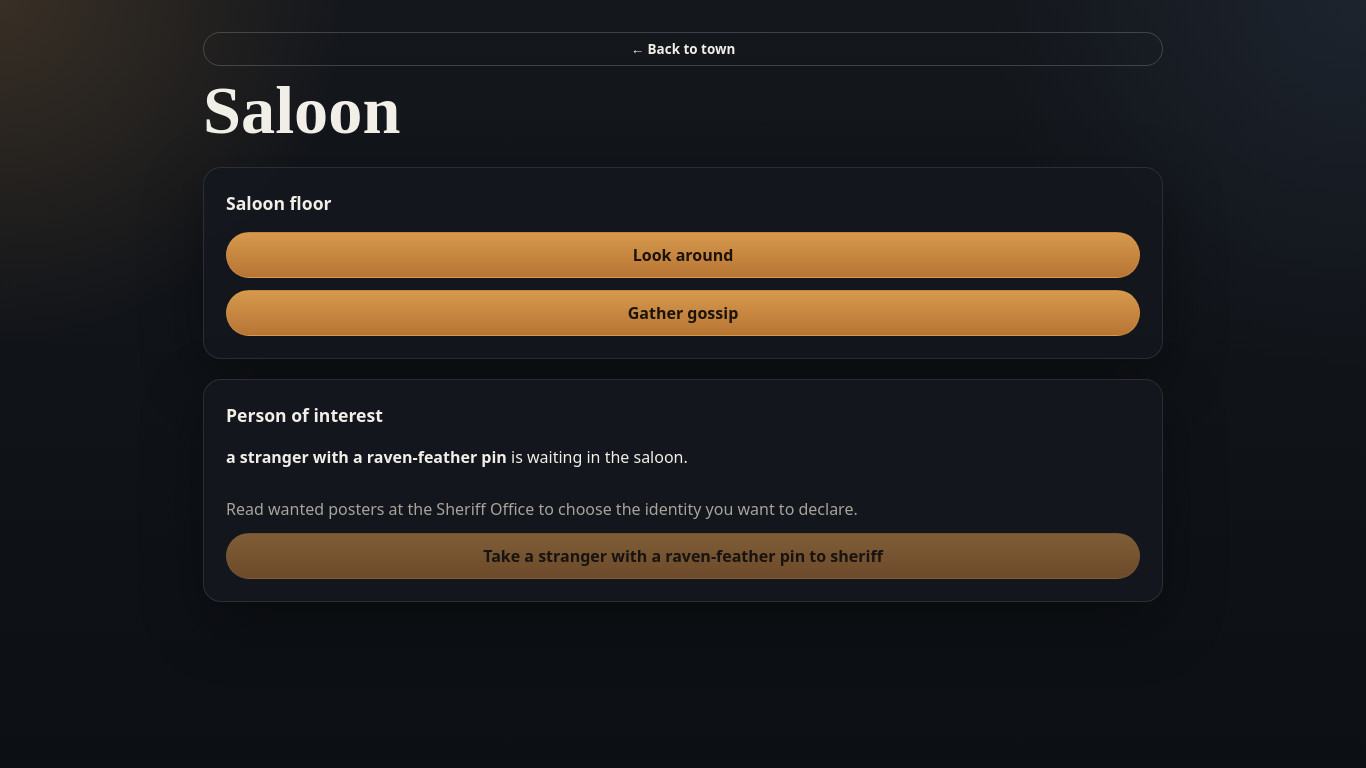
SaloonPlace › disables competing Saloon commands while a command is pending
The width and height of the screenshot is (1366, 768).
Click the button "Look around" at (683, 255), box [226, 232, 1140, 278]
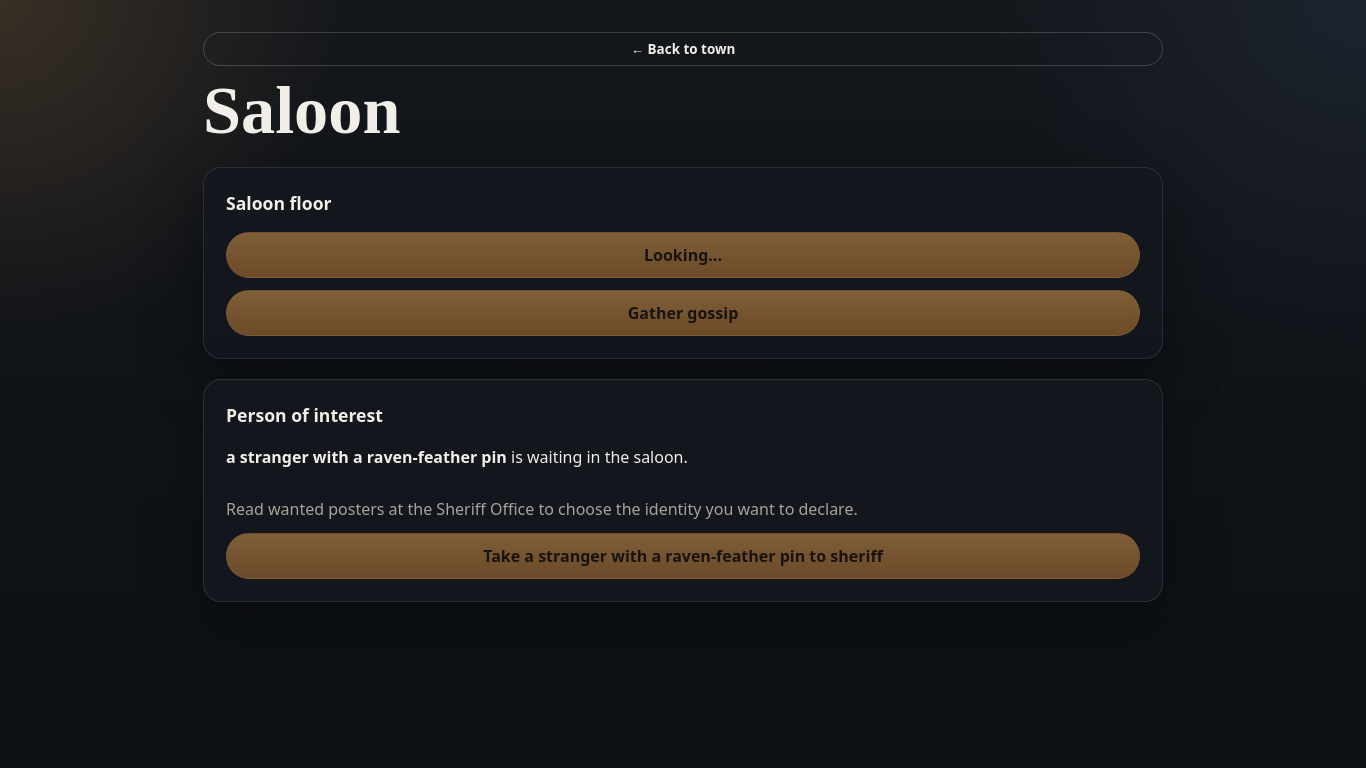
Now the button "Looking..." is disabled
Now the button "Gather gossip" is disabled, box [226, 290, 1140, 336]
Click the button "Looking..." at (683, 255), box [226, 232, 1140, 278]
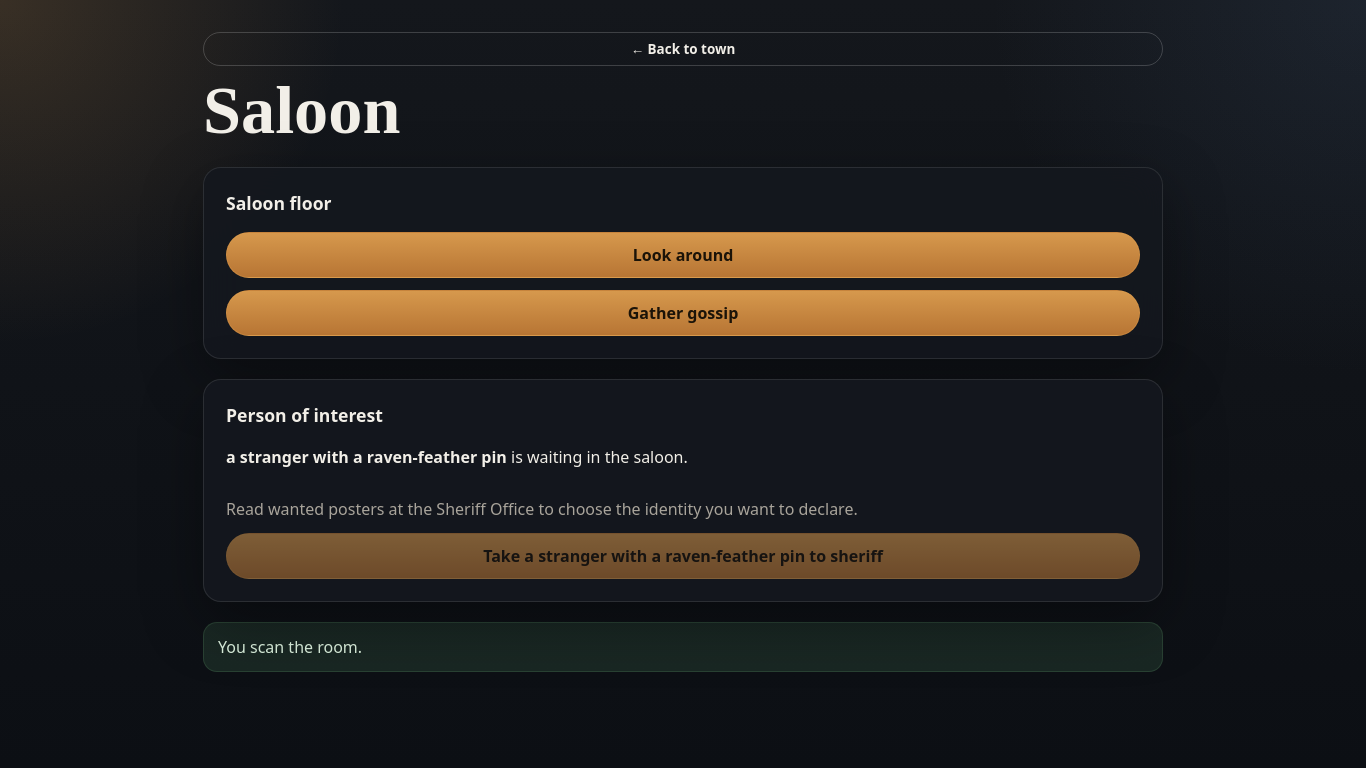
Now the text "You scan the room." is shown, box [203, 622, 1163, 672]
